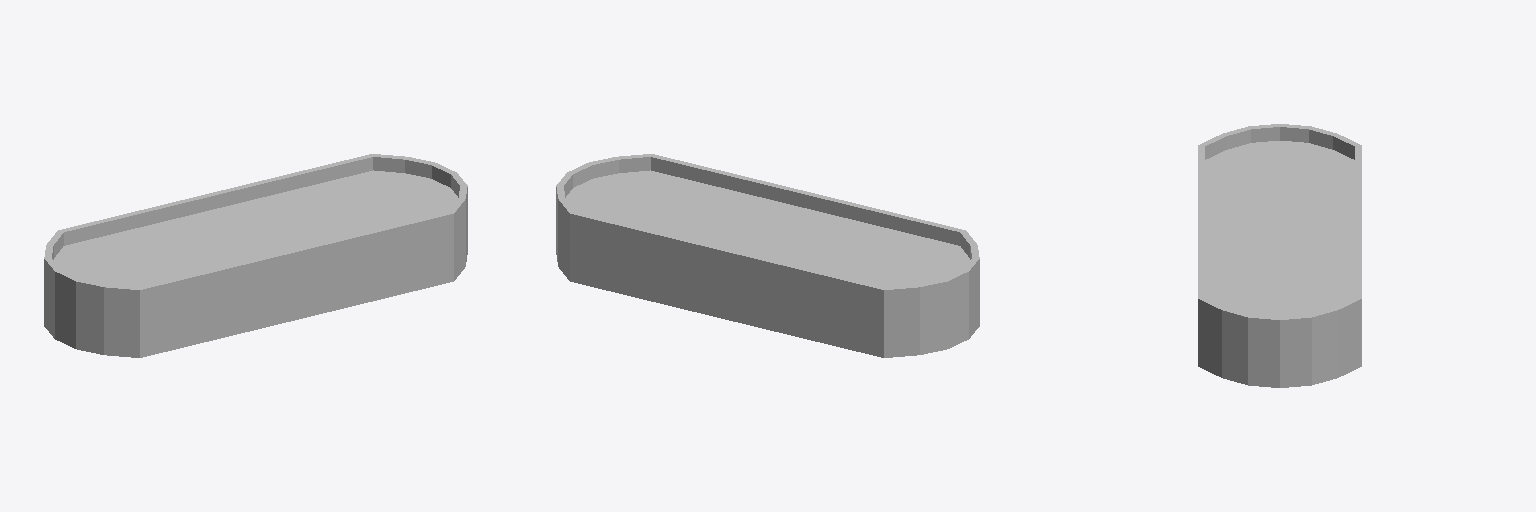
File: Lane Guide 3.obj
The picture shows the model from 3 angles: view 1: azimuth 30°, elevation 25°; view 2: azimuth 150°, elevation 25°; view 3: azimuth 270°, elevation 25°; orthographic projection.
Visible parts, largest first — view 1: Cylinder; view 2: Cylinder; view 3: Cylinder.
Boxes of the visible parts, x1,y1,x2,y2 form: Cylinder: [44, 154, 467, 357]; Cylinder: [556, 154, 979, 357]; Cylinder: [1198, 124, 1361, 387].
Bounding box in the file's own units: 3.1 × 0.5 × 1.09.